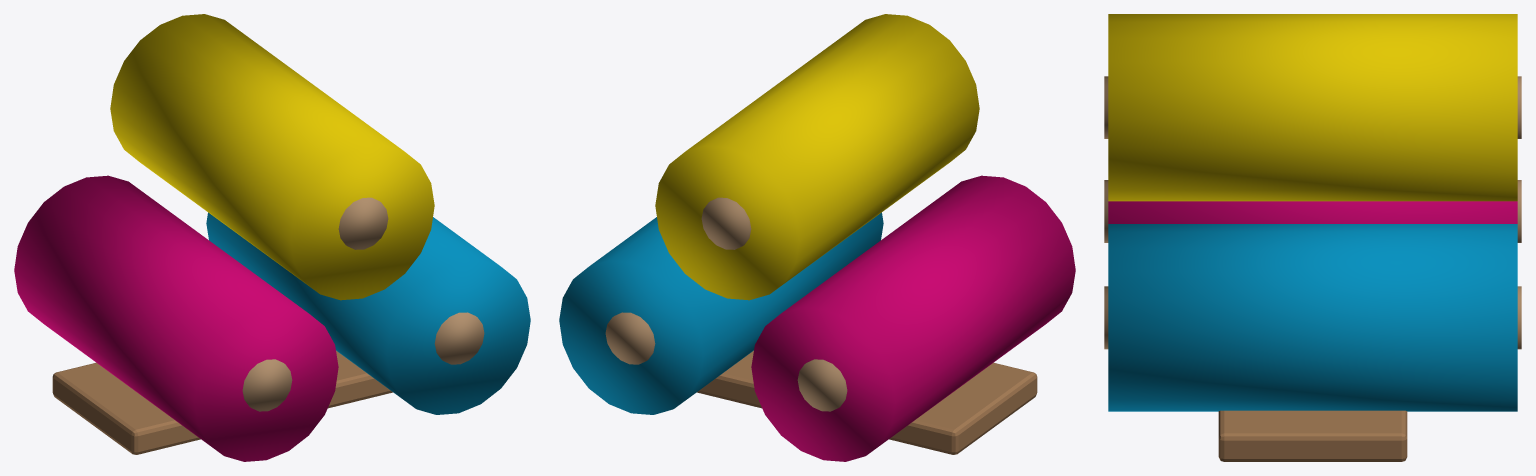
Rendered from m_fabric.glb.
3 renders of one model, left to right at view 1: azimuth 30°, elevation 25°; view 2: azimuth 150°, elevation 25°; view 3: azimuth 270°, elevation 25°, orthographic. The views are drawn at different scales.
Parts seen in each view (by area): view 1: m_fabric; view 2: m_fabric; view 3: m_fabric.
Boxes of the visible parts, x1,y1,x2,y2 form: m_fabric: (14,14,530,461); m_fabric: (559,14,1075,461); m_fabric: (1104,14,1521,461).
Size of the model in its own units: 0.3 by 0.24 by 0.265.
